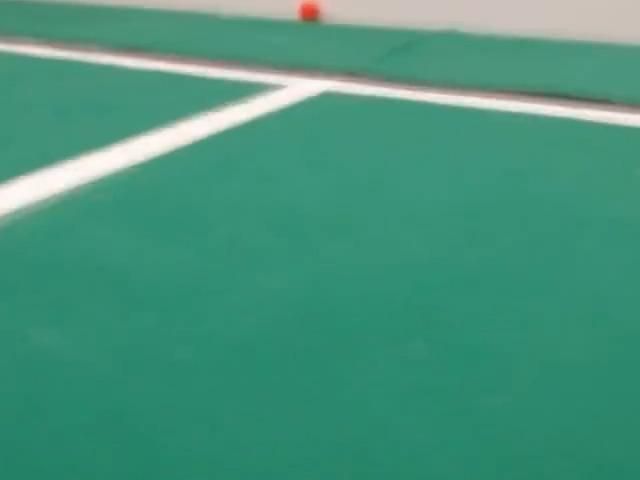Ball: (298, 0, 320, 21)
